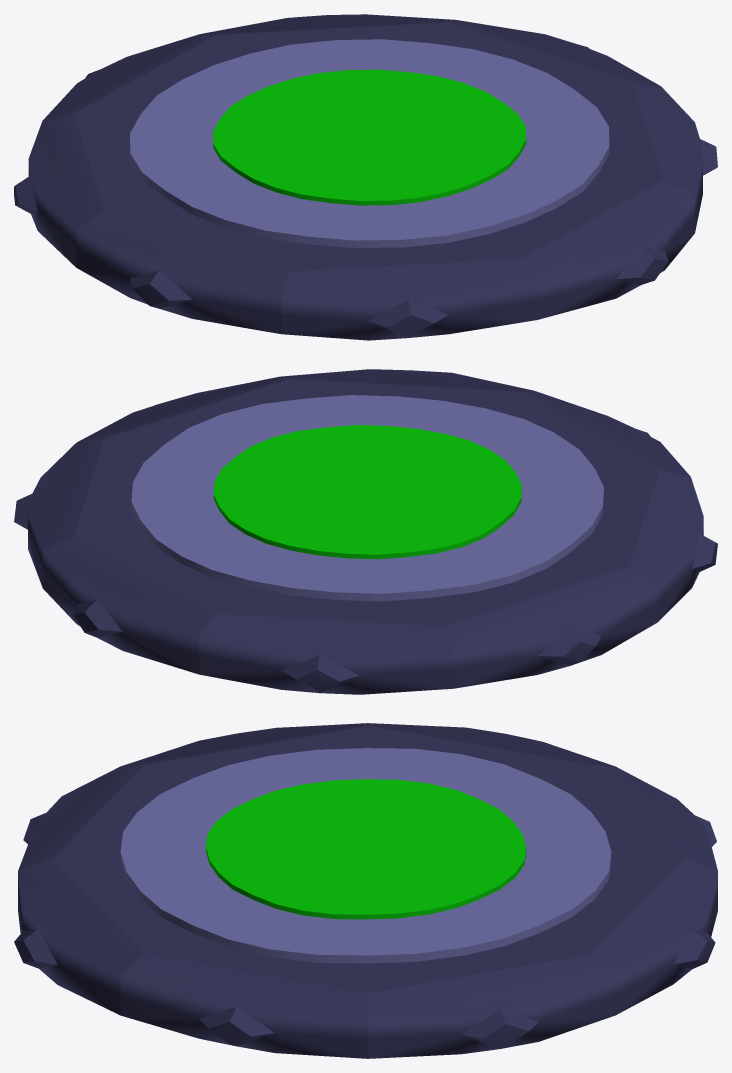
Rendered from teleport_portal.fbx.
3 views of the same model, one above another, from view 1: azimuth 30°, elevation 25°; view 2: azimuth 150°, elevation 25°; view 3: azimuth 270°, elevation 25° (orthographic). The views are drawn at different scales.
Parts seen in each view (by area): view 1: teleport_bot, teleport_mid, teleport_top_glow; view 2: teleport_bot, teleport_mid, teleport_top_glow; view 3: teleport_bot, teleport_mid, teleport_top_glow.
Boxes of the visible parts, box(x1,y1,x2,y2) form: teleport_bot: box(14, 14, 717, 340); teleport_mid: box(130, 39, 609, 248); teleport_top_glow: box(213, 69, 526, 205); teleport_bot: box(14, 369, 717, 694); teleport_mid: box(131, 395, 603, 601); teleport_top_glow: box(213, 425, 521, 559); teleport_bot: box(14, 723, 717, 1058); teleport_mid: box(120, 748, 611, 963); teleport_top_glow: box(206, 779, 526, 919).
Bounding box in the file's own units: 100 × 10.08 × 101.
